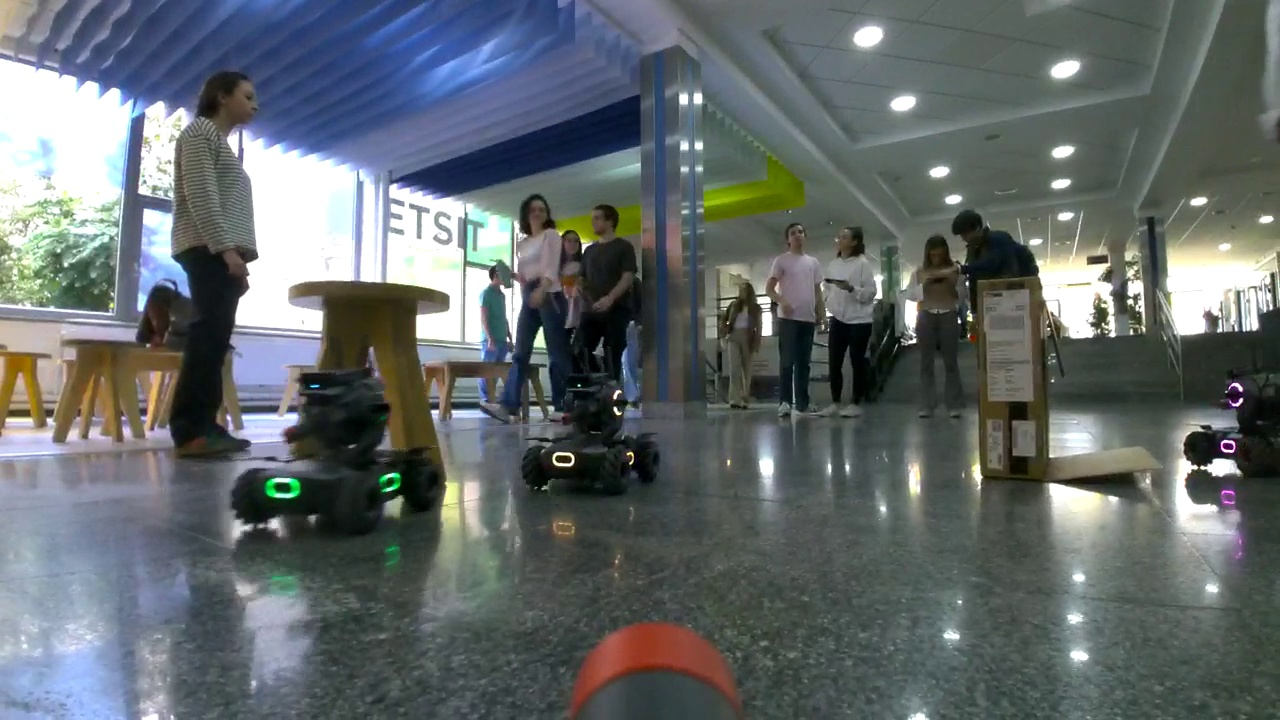robot: (229, 370, 446, 528), (523, 375, 662, 496), (1180, 372, 1280, 471)
